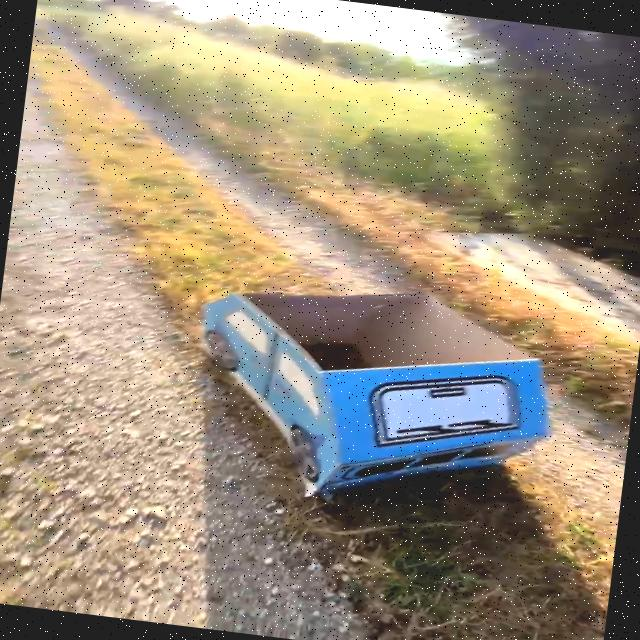blue_car: (138, 251, 628, 544)
